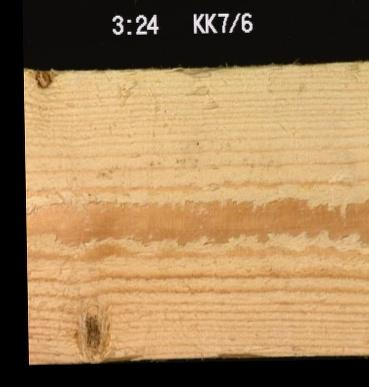edge_knot: (31, 67, 53, 88)
wave: (210, 340, 270, 358)
